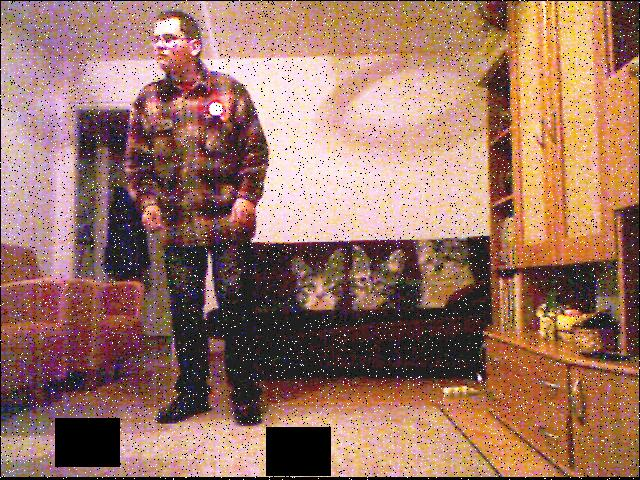standing: (112, 9, 301, 436)
